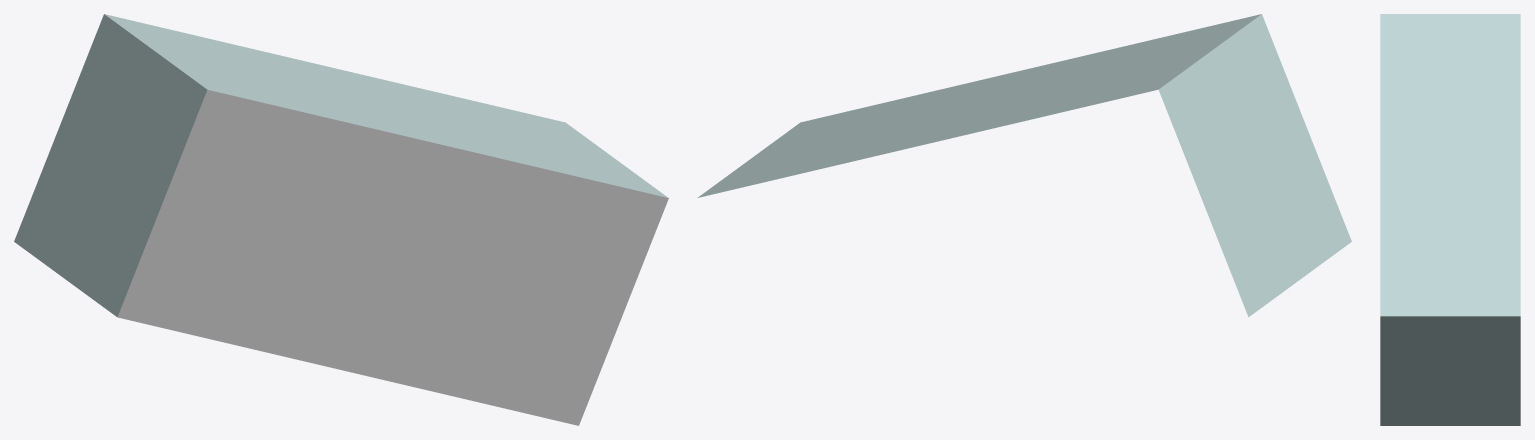
The picture shows the model from 3 angles, left to right: view 1: azimuth 30°, elevation 25°; view 2: azimuth 150°, elevation 25°; view 3: azimuth 270°, elevation 25°; orthographic projection. The views are drawn at different scales.
Parts seen in each view (by area): view 1: 0_1_1_2_2_3_1_3_2; view 2: 0_1_1_2_2_3_1_3_2; view 3: 0_1_1_2_2_3_1_3_2.
Part boxes in pixels (x1,y1,x2,y2): 0_1_1_2_2_3_1_3_2: [14, 14, 668, 425]; 0_1_1_2_2_3_1_3_2: [697, 14, 1351, 317]; 0_1_1_2_2_3_1_3_2: [1380, 14, 1520, 425].
Size of the model in its own units: 9.24 by 6.83 by 3.
